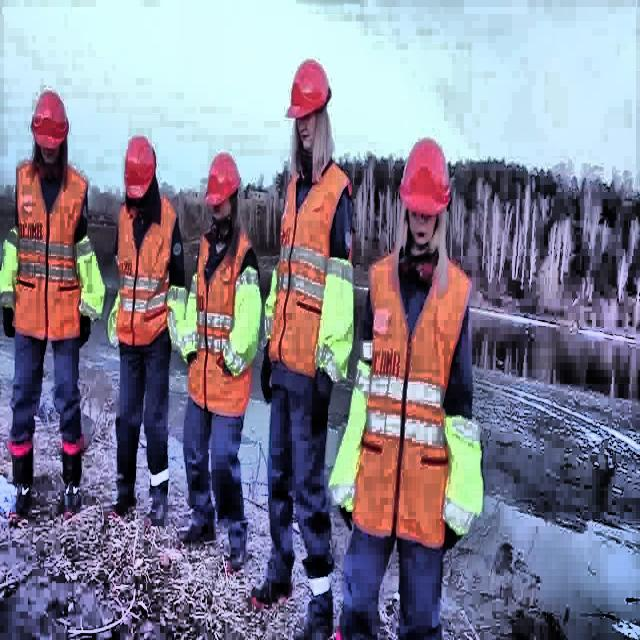safety_helmet: (402, 140, 452, 208), (288, 59, 333, 120), (32, 92, 70, 152), (123, 137, 156, 202), (205, 152, 243, 207)
safety_jacket: (369, 245, 471, 545), (268, 161, 351, 379), (16, 162, 90, 338), (185, 233, 252, 413), (116, 194, 178, 347), (334, 352, 370, 516), (446, 411, 488, 544), (325, 252, 355, 384), (230, 270, 262, 374), (80, 224, 104, 326), (0, 214, 21, 303), (168, 282, 186, 350), (262, 266, 278, 342), (188, 266, 199, 357), (108, 294, 120, 350)
